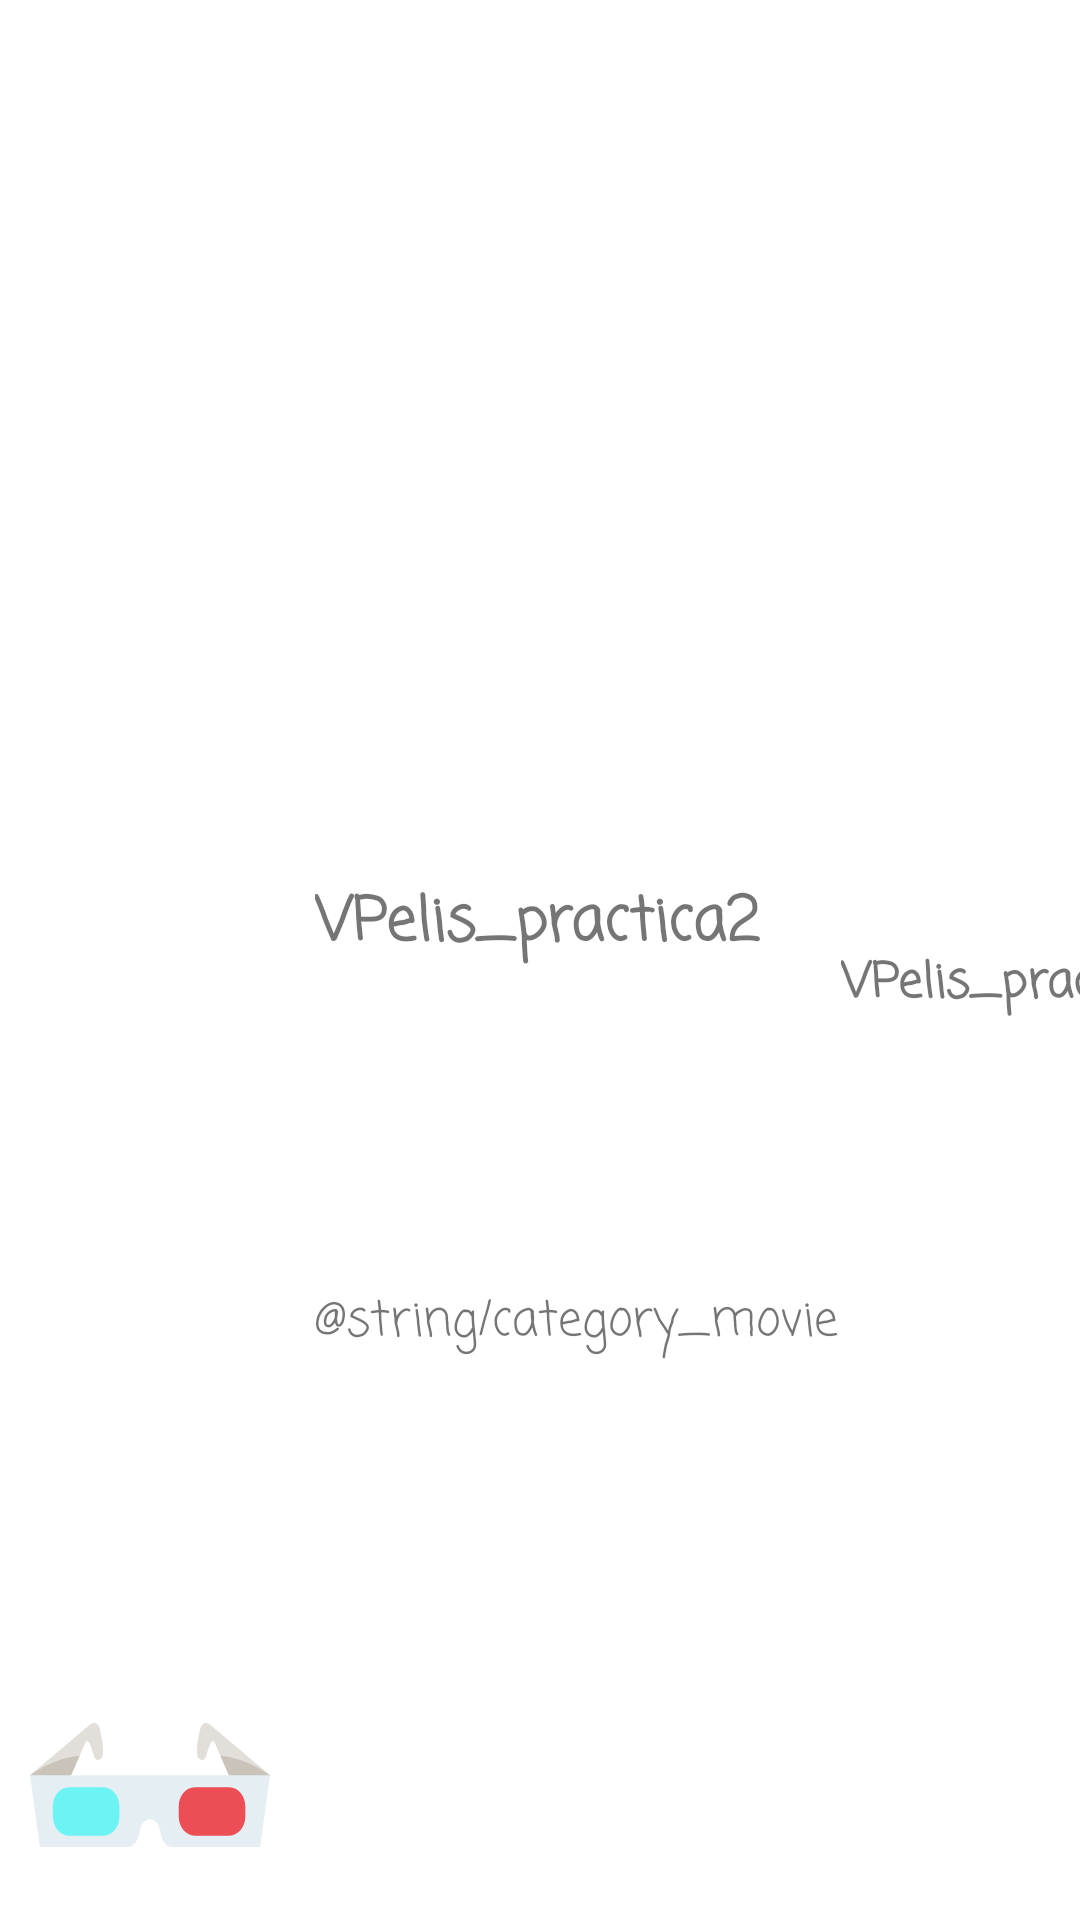

Point at icon controls on the screen. Image size 1080px×1920px, points as (x=x, y=y).
glass movie: (x=150, y=1785)
